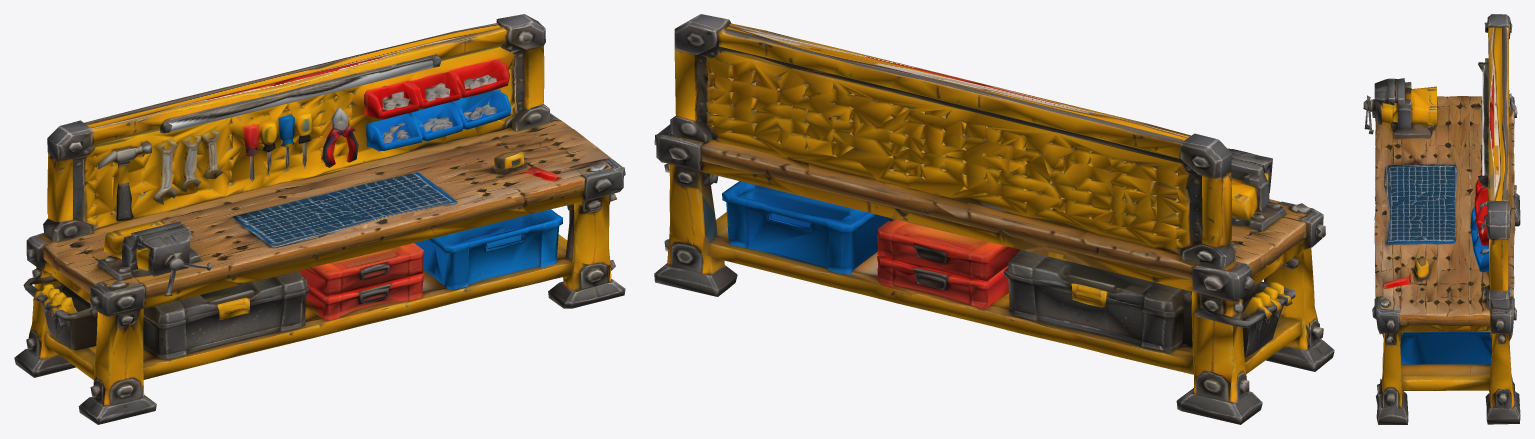
File: workbench_maker_01.glb
The picture shows the model from 3 angles, left to right: view 1: azimuth 30°, elevation 25°; view 2: azimuth 150°, elevation 25°; view 3: azimuth 270°, elevation 25°; orthographic projection. The views are drawn at different scales.
Parts seen in each view (by area): view 1: workbench_maker_01; view 2: workbench_maker_01; view 3: workbench_maker_01.
Boxes of the visible parts, <box> form: workbench_maker_01: <box>14,14,625,424</box>; workbench_maker_01: <box>654,14,1334,424</box>; workbench_maker_01: <box>1363,14,1520,424</box>.
Bounding box in the file's own units: 12 × 5 × 3.5.
1 material, 1 textured.
